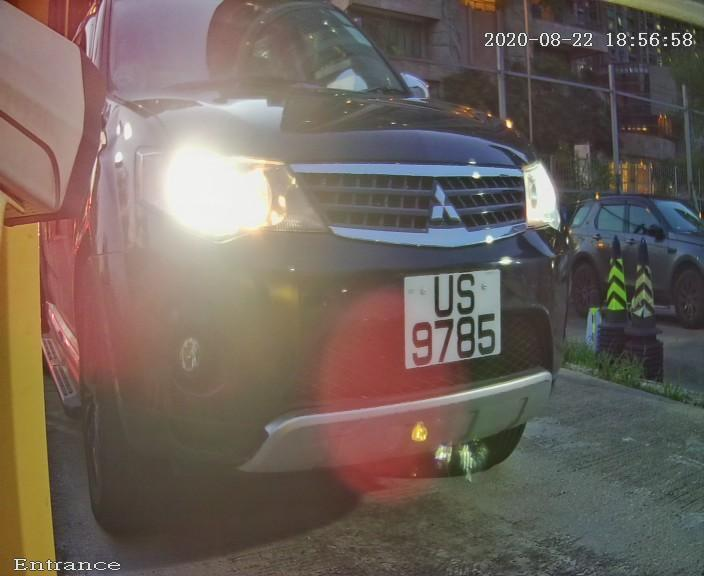Car: (26, 6, 639, 533)
License Plate: (365, 247, 516, 397)
